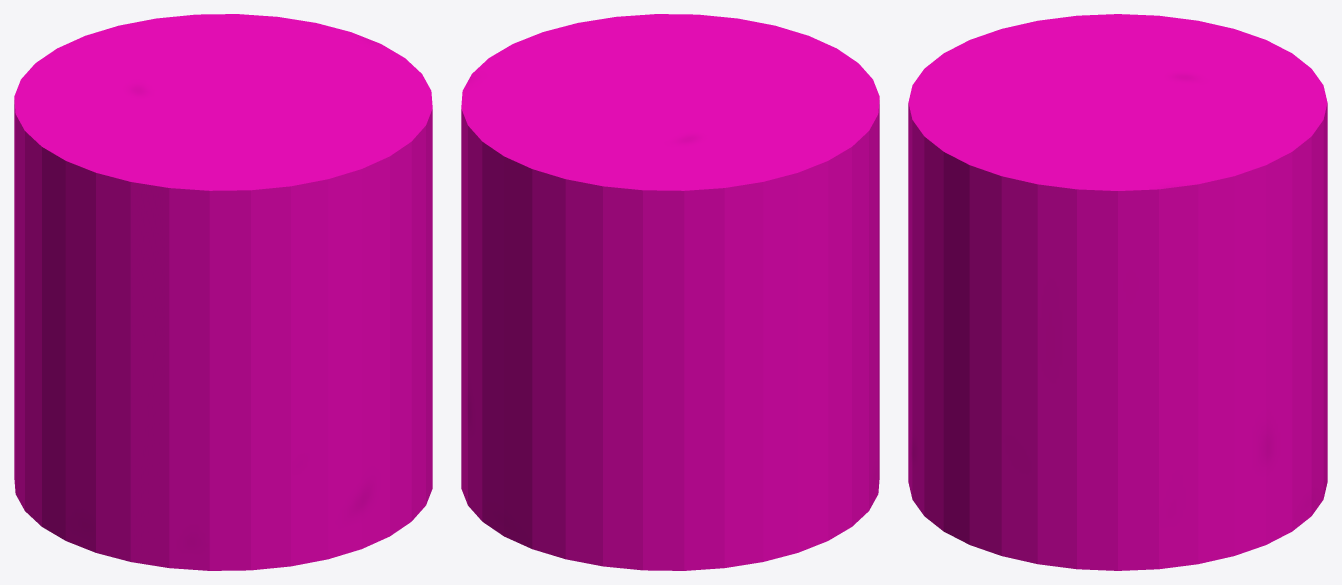
Rendered from player_Body1.obj.
3 renders of one model, left to right at view 1: azimuth 30°, elevation 25°; view 2: azimuth 150°, elevation 25°; view 3: azimuth 270°, elevation 25°, orthographic.
Visible parts, largest first — view 1: 円柱; view 2: 円柱; view 3: 円柱.
Boxes of the visible parts, x1,y1,x2,y2 form: 円柱: (14, 14, 432, 570); 円柱: (461, 14, 879, 570); 円柱: (908, 14, 1327, 570).
Size of the model in its own units: 2.56 by 2.56 by 2.56.
1 material, 1 textured.
